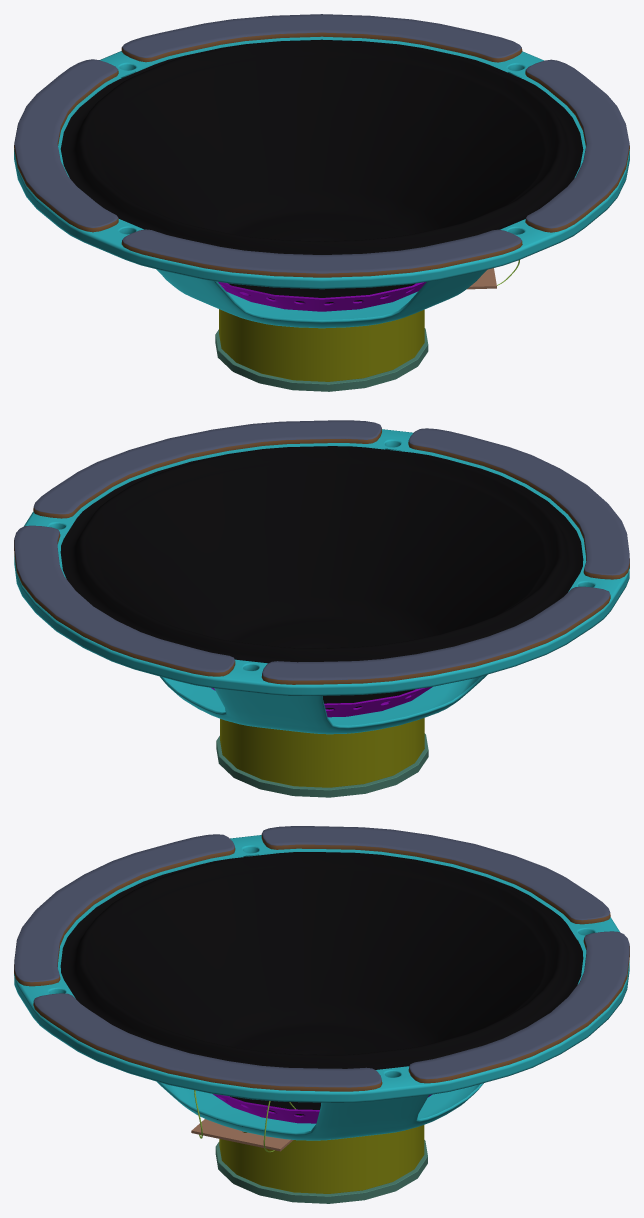
The model's file is aud003.fbx.
3 views of the same model, one above another, from view 1: azimuth 30°, elevation 25°; view 2: azimuth 150°, elevation 25°; view 3: azimuth 270°, elevation 25° (orthographic).
Parts seen in each view (by area): view 1: aud003_LOD0; view 2: aud003_LOD0; view 3: aud003_LOD0.
Boxes of the visible parts, x1,y1,x2,y2 form: aud003_LOD0: (14, 14, 629, 391); aud003_LOD0: (14, 420, 629, 797); aud003_LOD0: (14, 826, 629, 1203).
Size of what is drawn, in the model's own units: 9.85 by 3.9 by 9.85.
